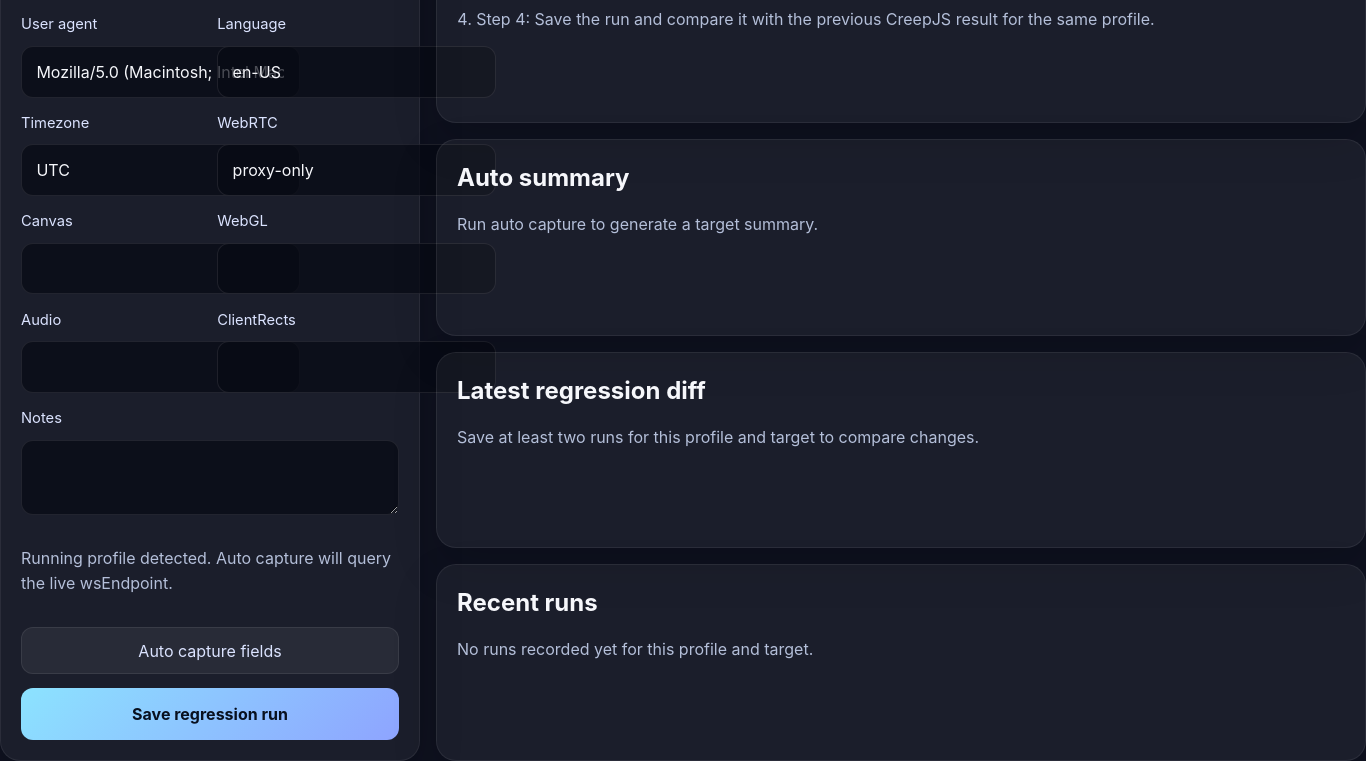
AutomationPage › auto-captures observed fields from a running profile
(page scrolled)
Click the button "Auto capture fields" at (210, 651), box left=21, top=627, right=399, bottom=674
(page scrolled)
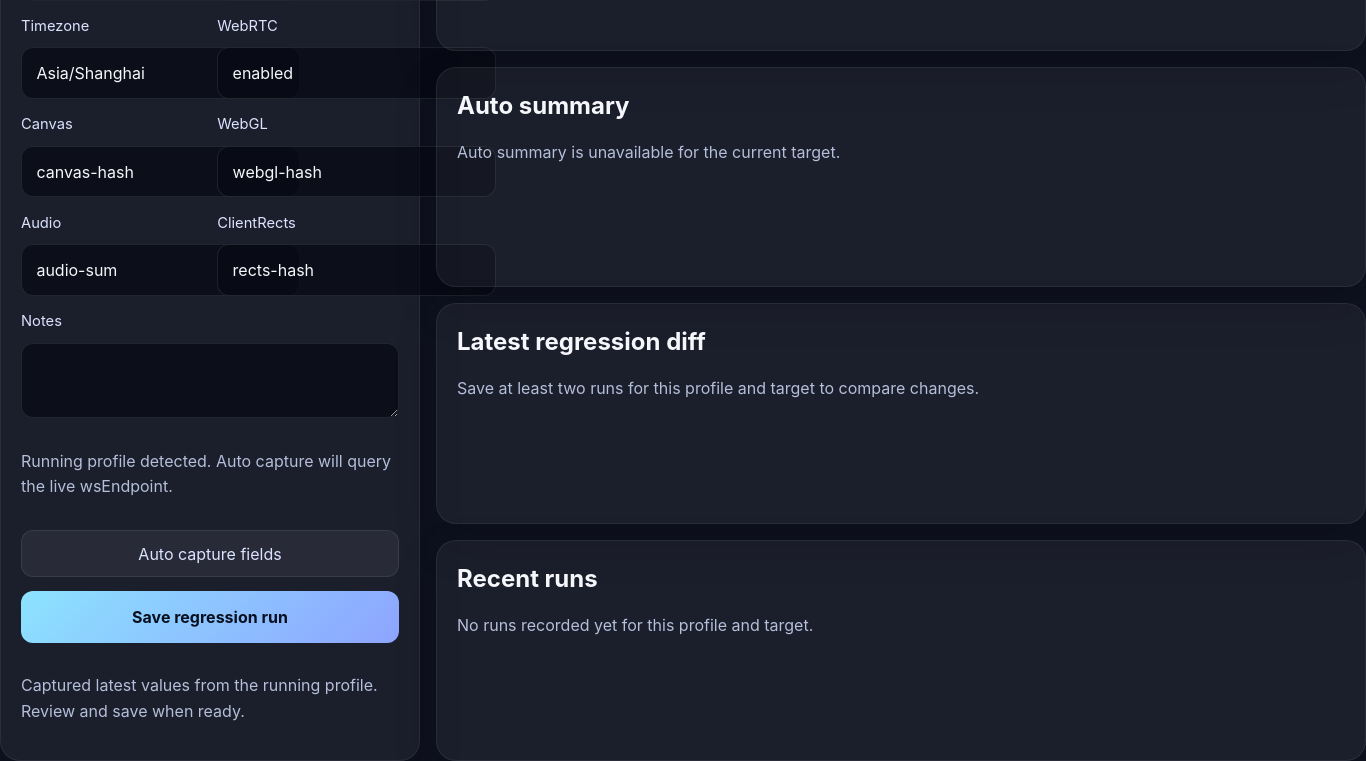
Result: the field labelled "Timezone" holds "Asia/Shanghai" at left=21, top=47, right=300, bottom=99
Result: the field labelled "ClientRects" holds "rects-hash" at left=217, top=244, right=496, bottom=296
Result: the text "Captured latest values from the running profile" is shown at left=21, top=675, right=378, bottom=721
